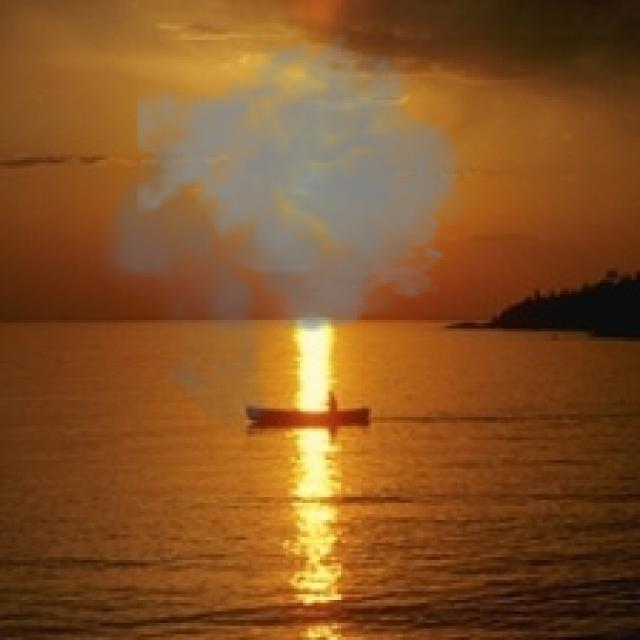smoke: (88, 32, 486, 437)
